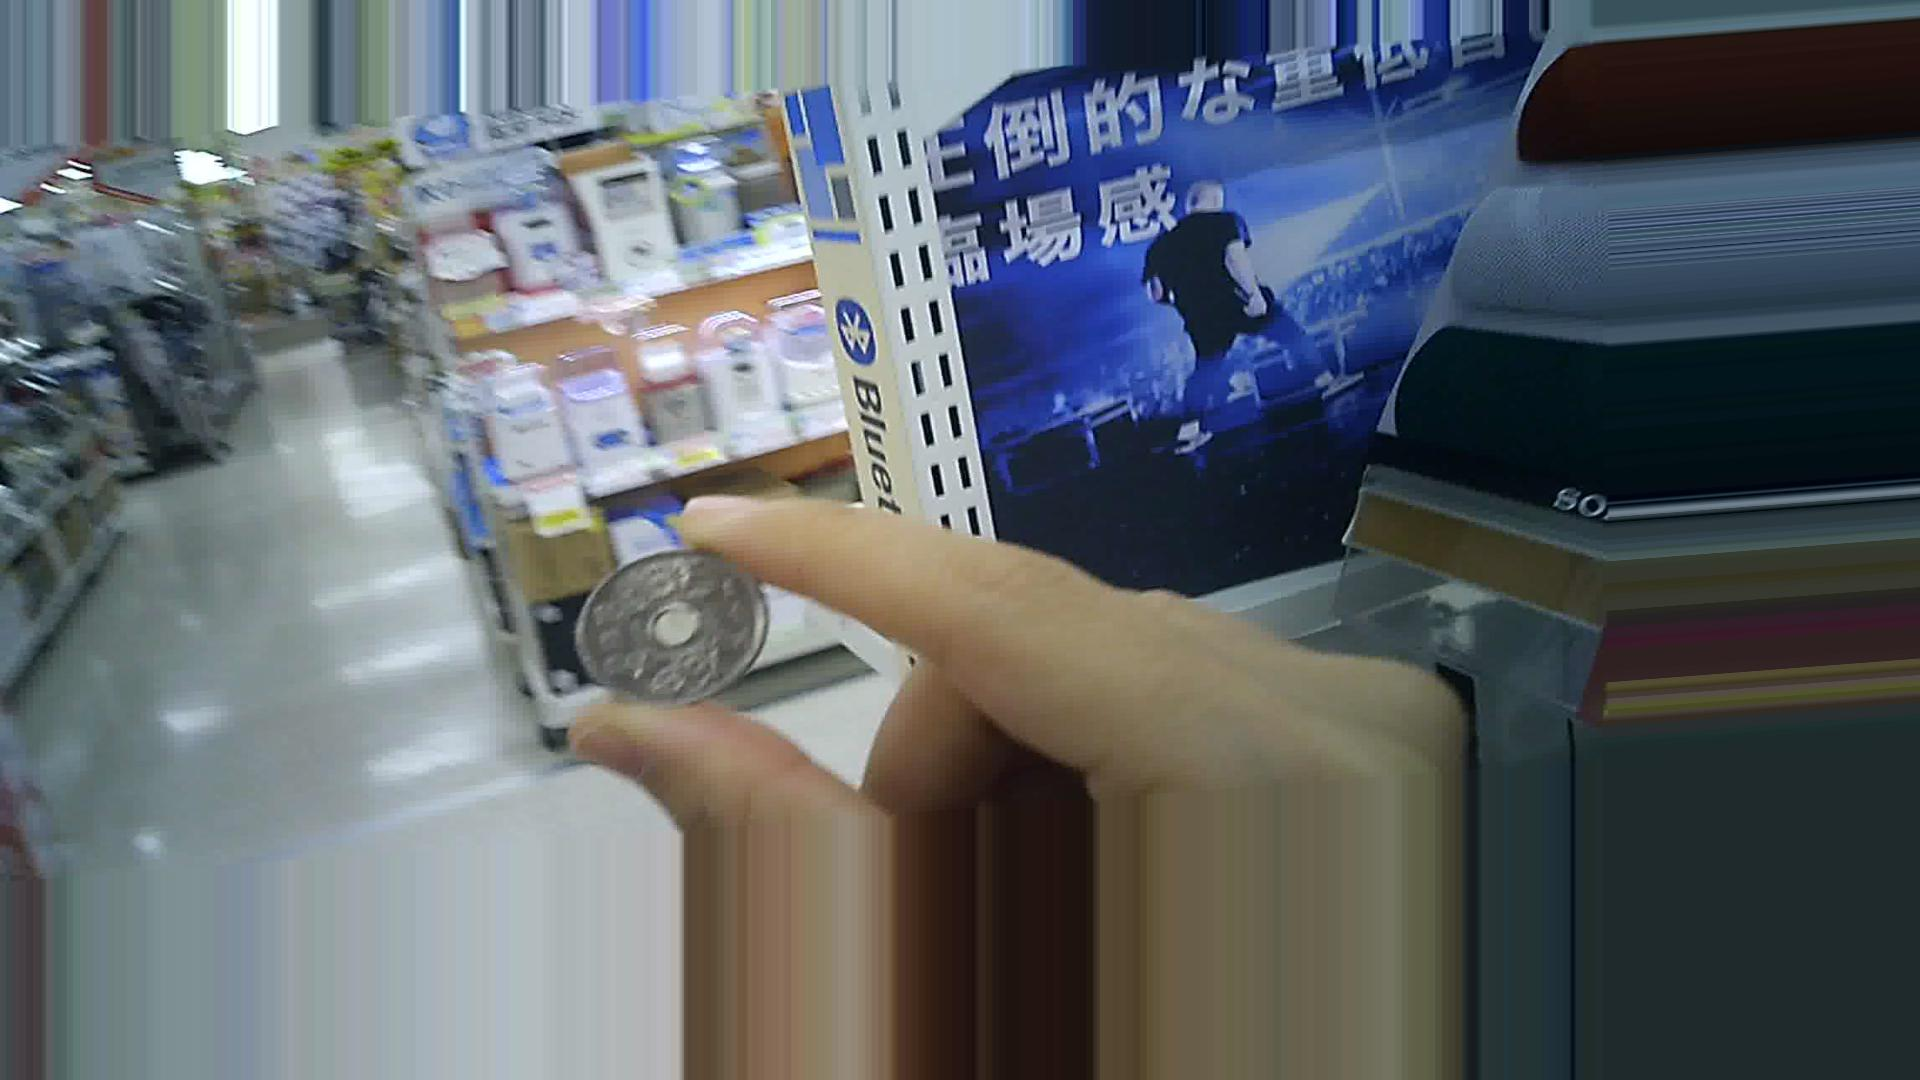50 Yen: (570, 553, 782, 709)
